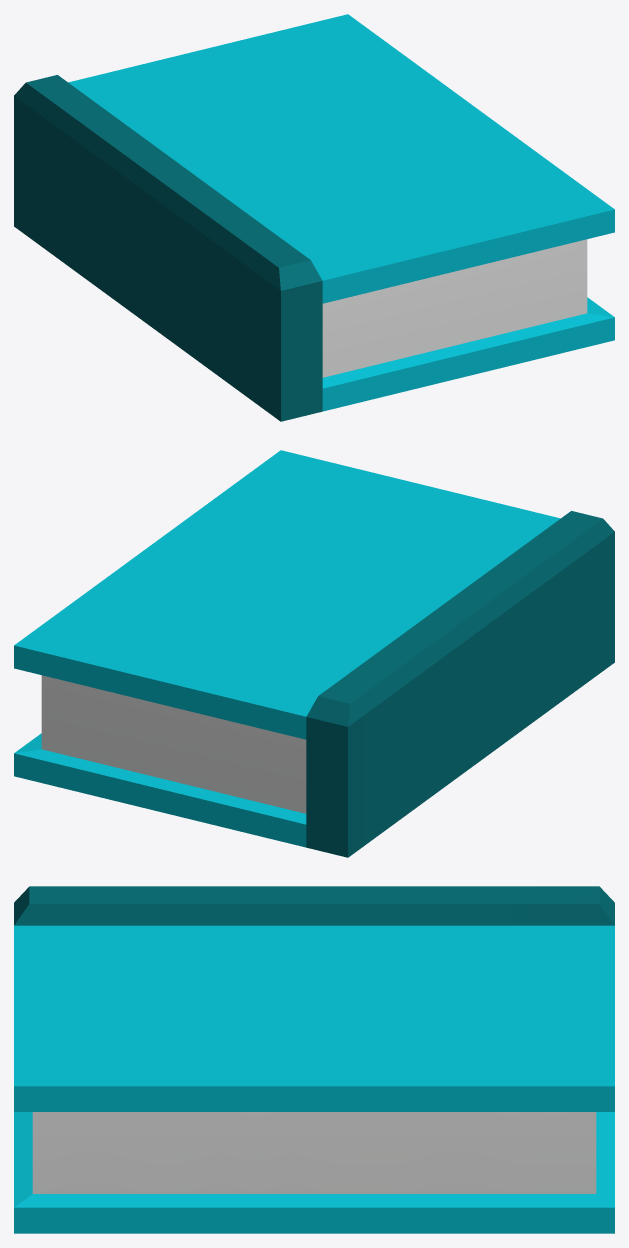
The model's file is LivroAzul.fbx.
The picture shows the model from 3 angles, top to bottom: view 1: azimuth 30°, elevation 25°; view 2: azimuth 150°, elevation 25°; view 3: azimuth 270°, elevation 25°; orthographic projection. The views are drawn at different scales.
Parts seen in each view (by area): view 1: LivroAzul; view 2: LivroAzul; view 3: LivroAzul.
Boxes of the visible parts, box(x1,y1,x2,y2) form: LivroAzul: box(14, 14, 614, 421); LivroAzul: box(14, 450, 614, 857); LivroAzul: box(14, 886, 614, 1233).
Size of the model in its own units: 49.87 by 21.07 by 69.
